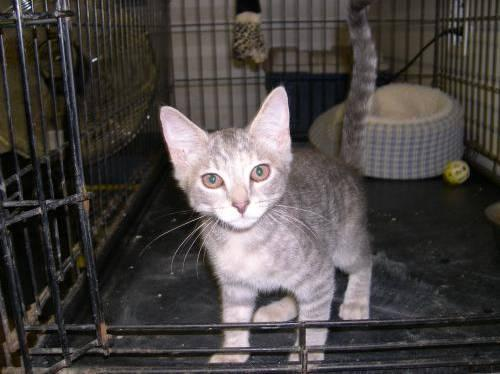cat: (160, 88, 371, 320)
